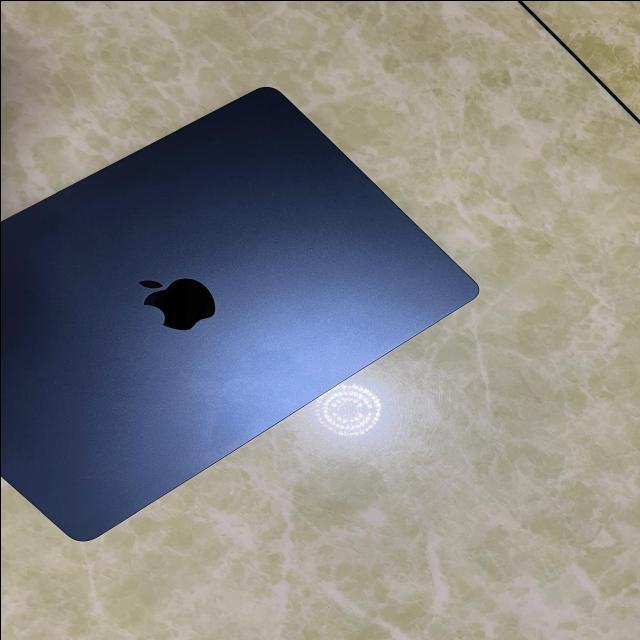laptop: (0, 84, 479, 541)
